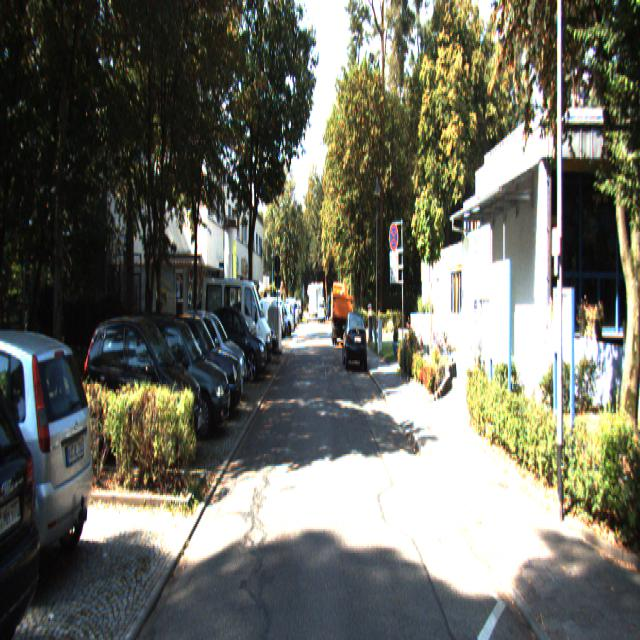Car: (0, 318, 99, 597), (78, 308, 205, 470), (122, 312, 231, 441), (141, 311, 243, 425), (156, 308, 248, 404), (200, 277, 272, 372), (194, 303, 266, 378), (330, 278, 354, 347), (342, 310, 367, 371)
